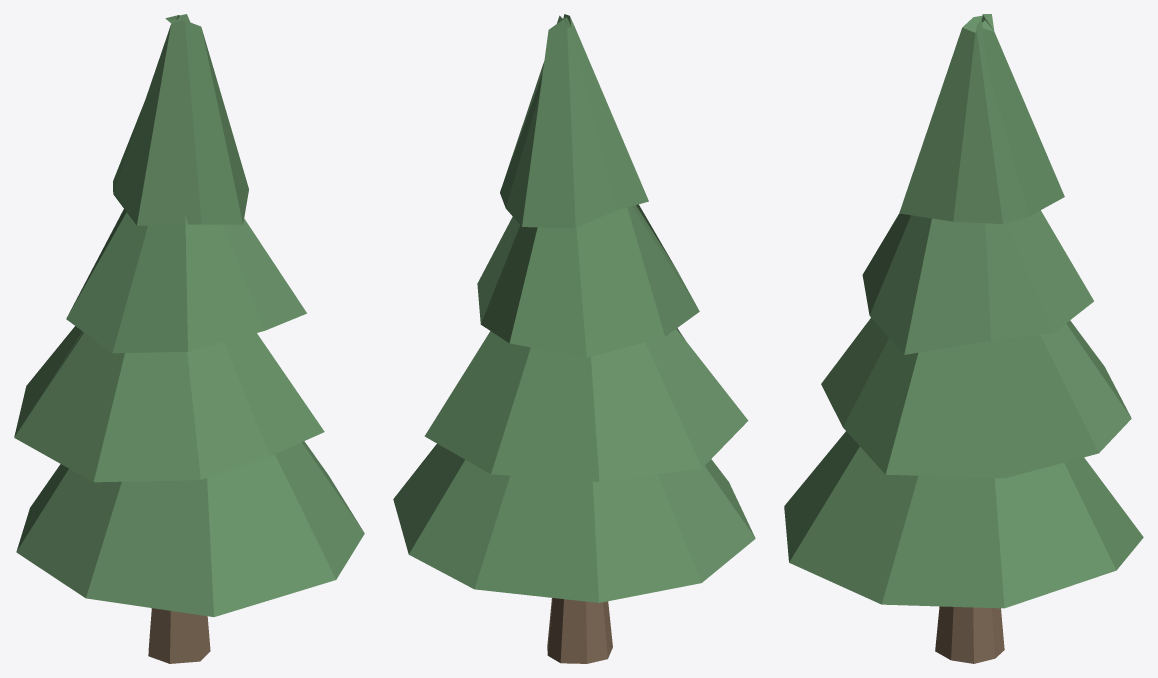
The model's file is pine.glb.
3 views of the same model, side by side, from view 1: azimuth 30°, elevation 25°; view 2: azimuth 150°, elevation 25°; view 3: azimuth 270°, elevation 25° (orthographic).
Parts seen in each view (by area): view 1: trunk; view 2: trunk; view 3: trunk.
Boxes of the visible parts, x1,y1,x2,y2 form: trunk: (14, 14, 364, 663); trunk: (393, 14, 755, 663); trunk: (784, 14, 1143, 663).
Bounding box in the file's own units: 3.23 × 6.27 × 3.2.
